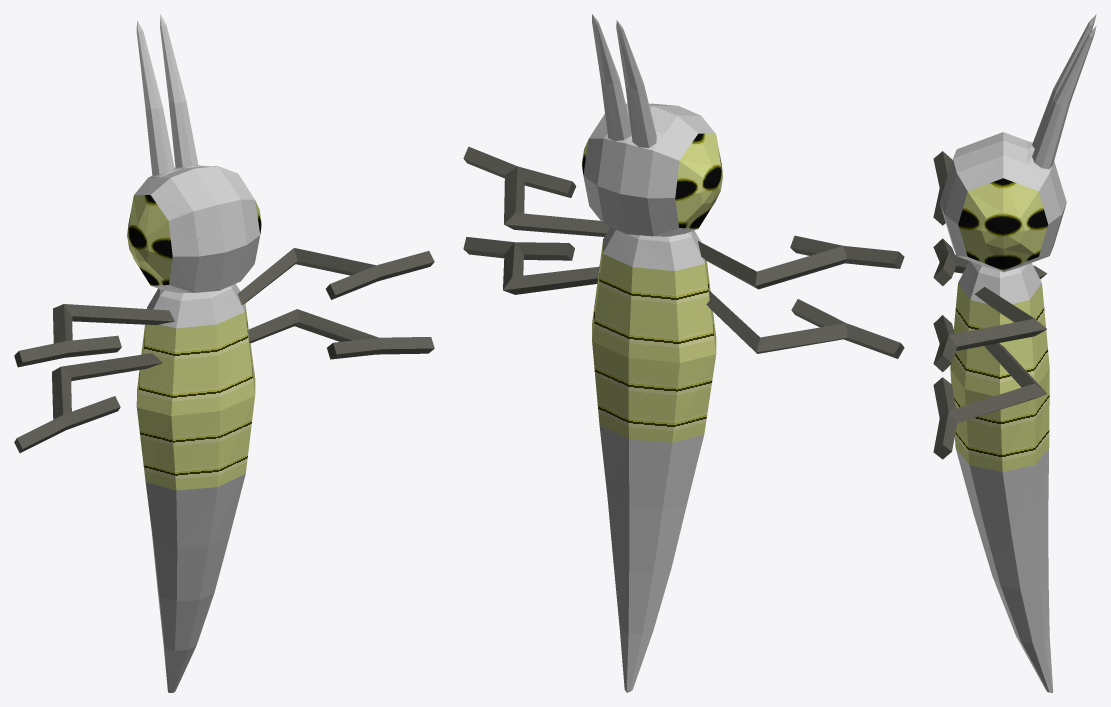
File: BR_Vibrava-Shiny01.obj
3 views of the same model, side by side, from view 1: azimuth 30°, elevation 25°; view 2: azimuth 150°, elevation 25°; view 3: azimuth 270°, elevation 25° (orthographic). The views are drawn at different scales.
Visible parts, largest first — view 1: vibrava; view 2: vibrava; view 3: vibrava.
Part boxes in pixels (x1,y1,x2,y2): vibrava: (14, 14, 434, 692); vibrava: (463, 14, 904, 692); vibrava: (933, 14, 1096, 692).
Bounding box in the file's own units: 6.52 × 9.92 × 2.18.
